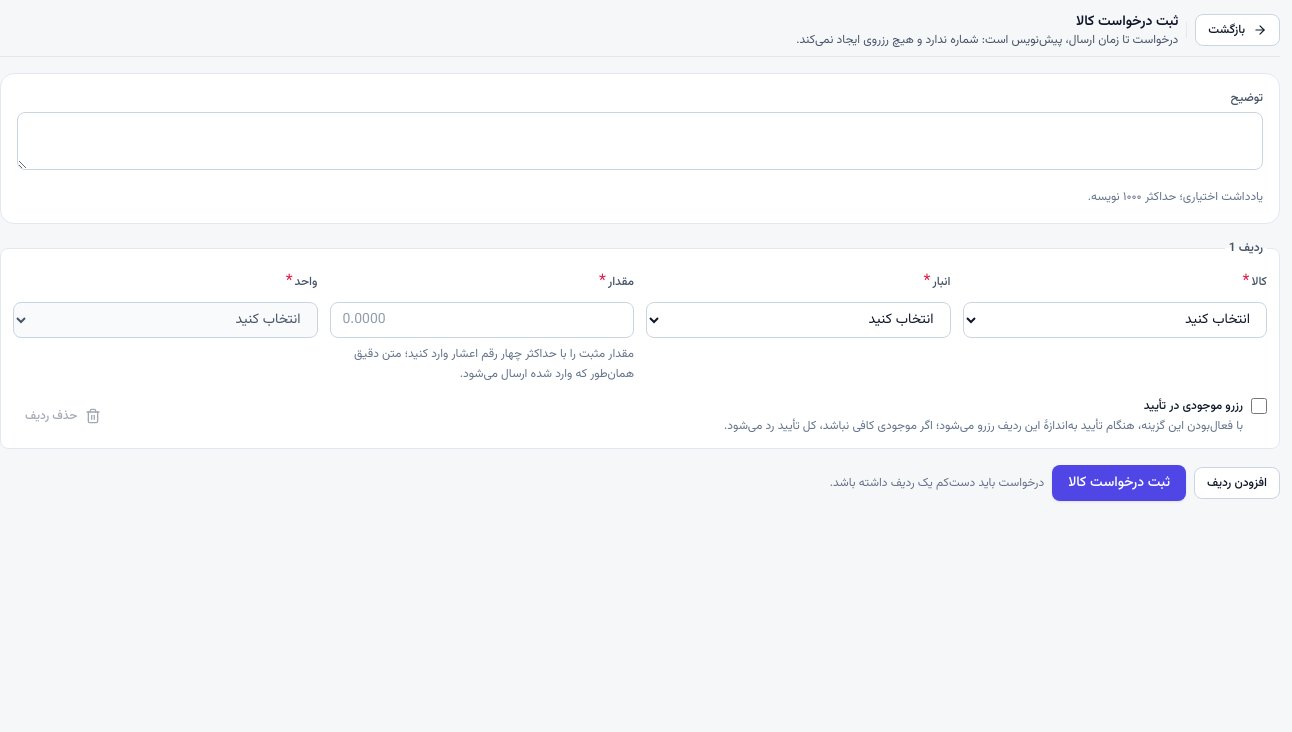
material request create form › adds and removes a second line but never leaves the form without one
Expected: the number of buttons "حذف ردیف" is 1, [13,400,113,432]
Expected: the button "حذف ردیف" is disabled, [13,400,113,432]
Click the button "افزودن ردیف": (1237, 483) [1194,467,1280,499]
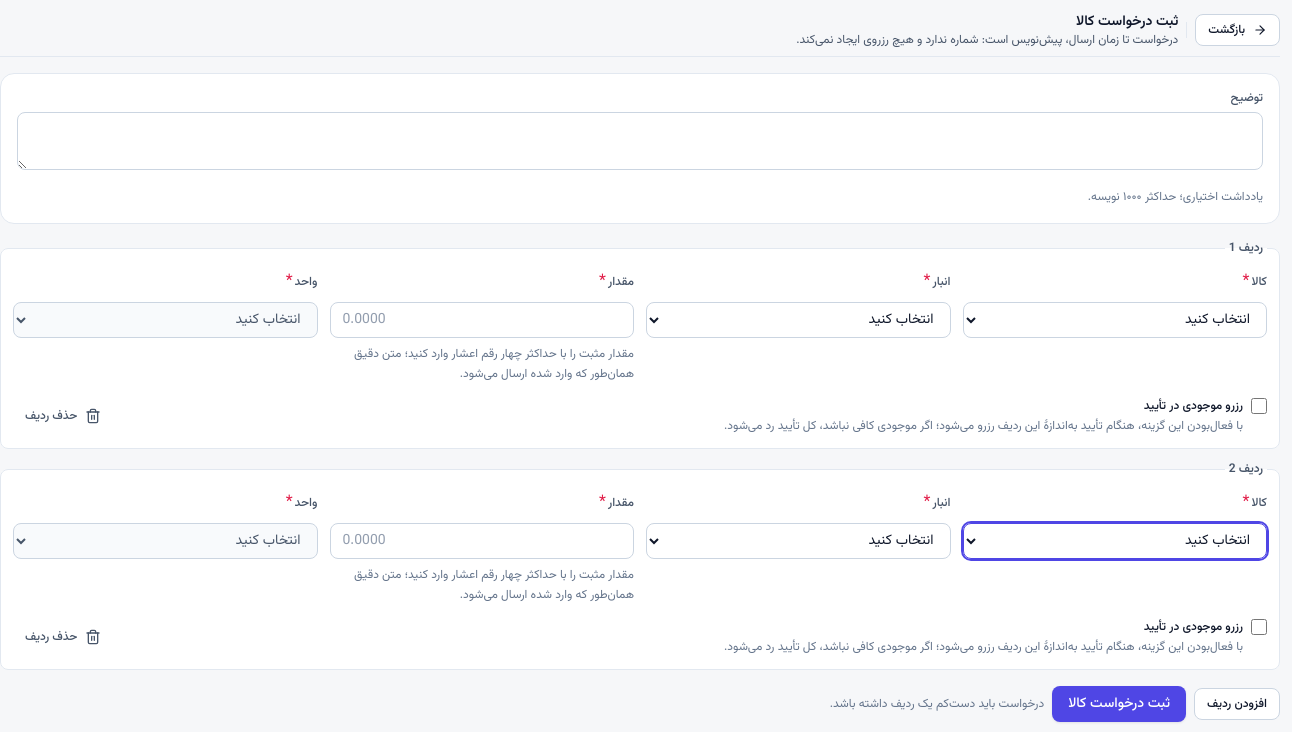
Expected: the element with test id "material-request-line-1" is shown, [0,461,1280,670]
Expected: the 1st button "حذف ردیف" is enabled, [13,400,113,432]
Click the 2nd button "حذف ردیف": (63, 637) [13,621,113,653]
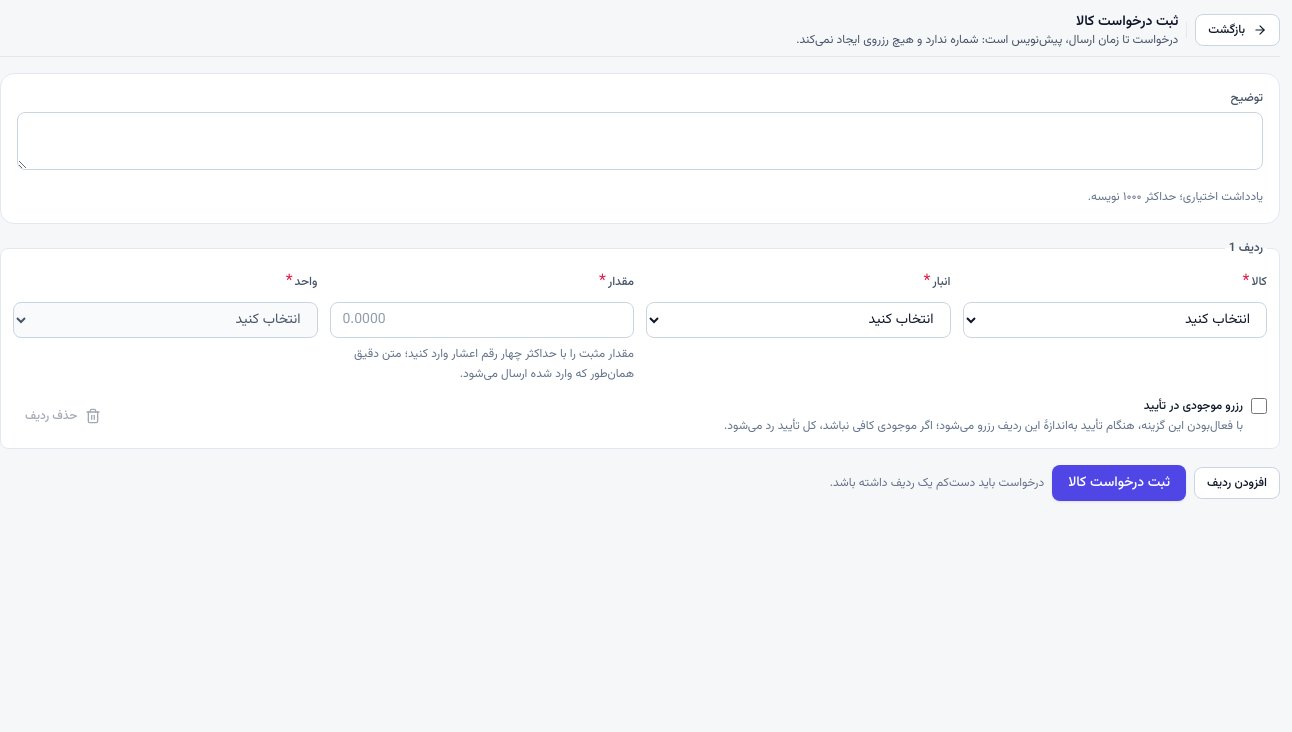
Expected: the element with test id "material-request-line-1" is gone
